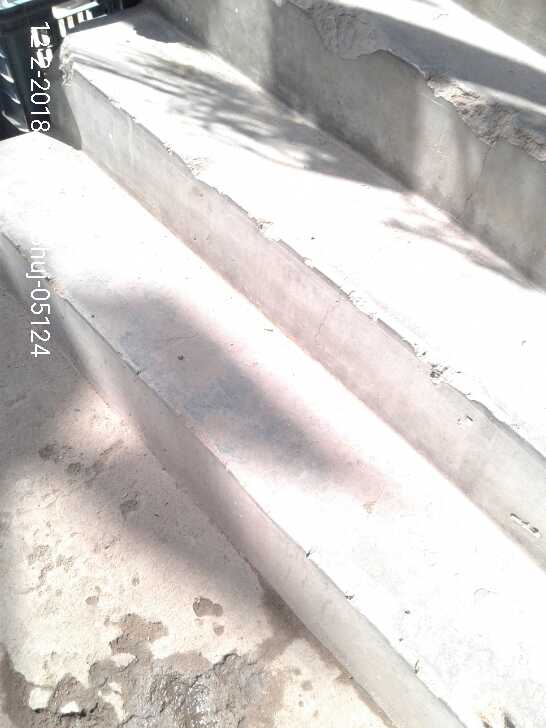reject: (245, 337, 343, 439)
